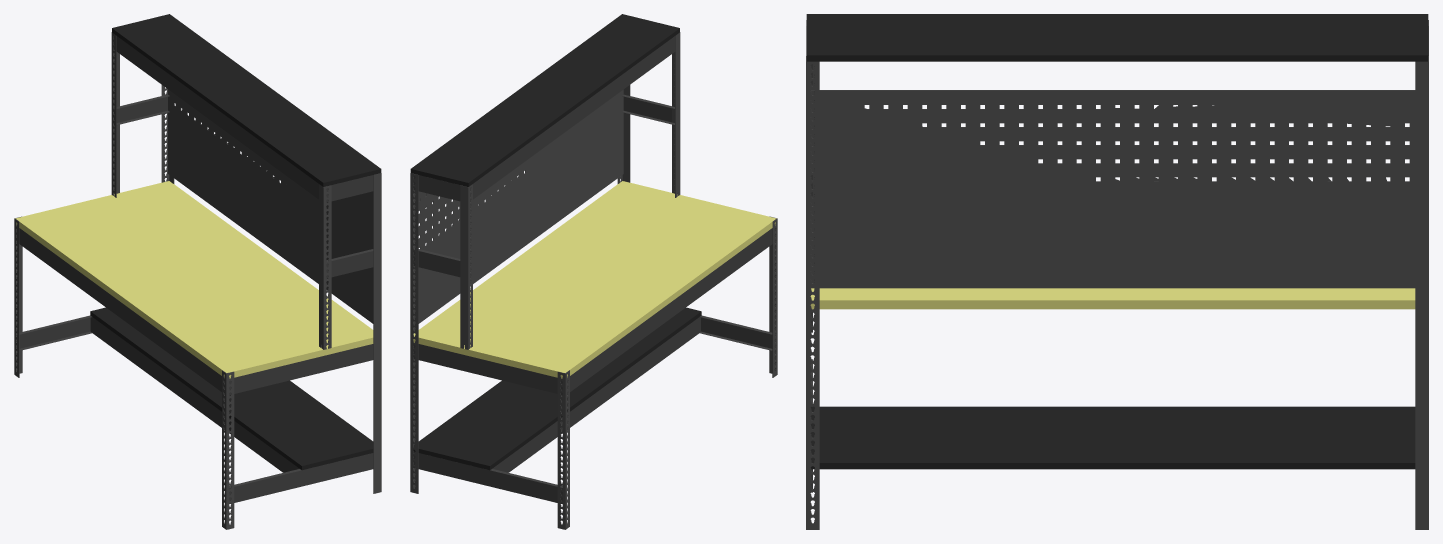
File: Safety_WorkBench.fbx
The picture shows the model from 3 angles, left to right: view 1: azimuth 30°, elevation 25°; view 2: azimuth 150°, elevation 25°; view 3: azimuth 270°, elevation 25°; orthographic projection. The views are drawn at different scales.
Visible parts, largest first — view 1: Bench; view 2: Bench; view 3: Bench.
Part boxes in pixels (x1,y1,x2,y2): Bench: [14, 14, 381, 529]; Bench: [410, 14, 777, 529]; Bench: [806, 14, 1428, 529].
Size of the model in its own units: 77.92 by 155 by 184.
